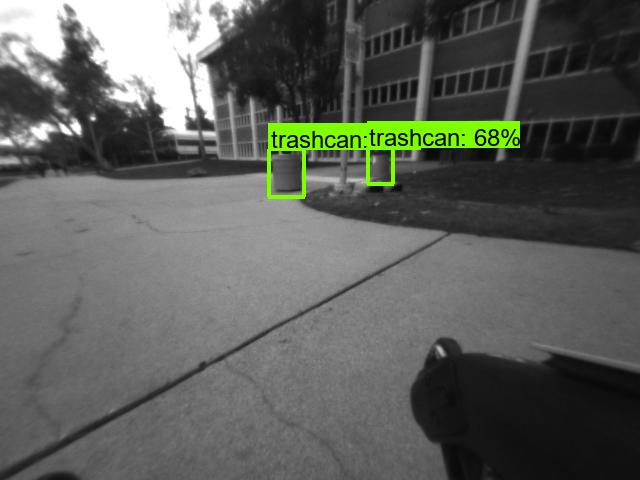trashcan: (366, 146, 395, 186), (273, 152, 301, 192)
